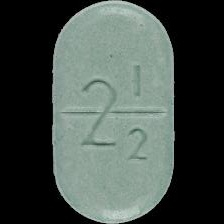16590-340: (0, 0, 224, 224)
